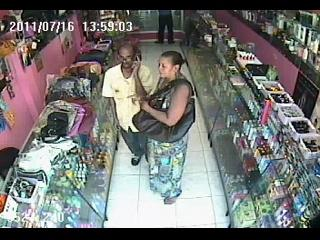Normal: (133, 50, 196, 205), (101, 43, 155, 166), (154, 10, 176, 44), (75, 50, 108, 66)
